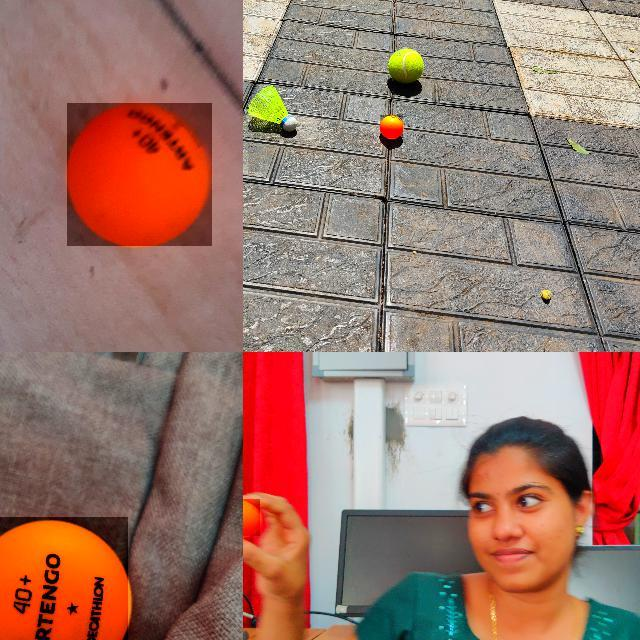ping-pong-ball: (66, 103, 214, 247), (0, 517, 130, 639), (243, 498, 262, 538), (380, 115, 404, 139)
